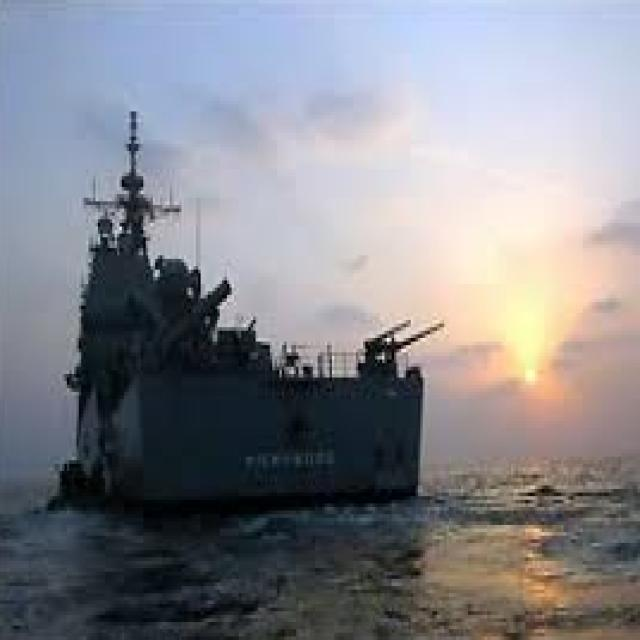navalvessels: (54, 106, 438, 519)
